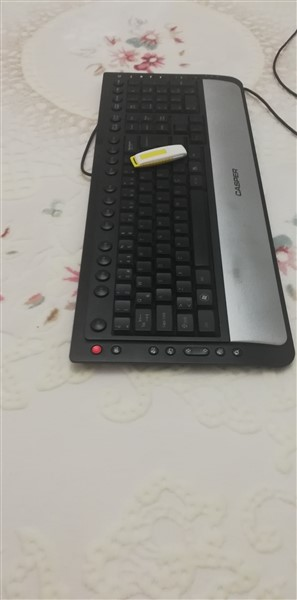flash disk: (126, 140, 199, 172)
klavye: (69, 66, 297, 375)
